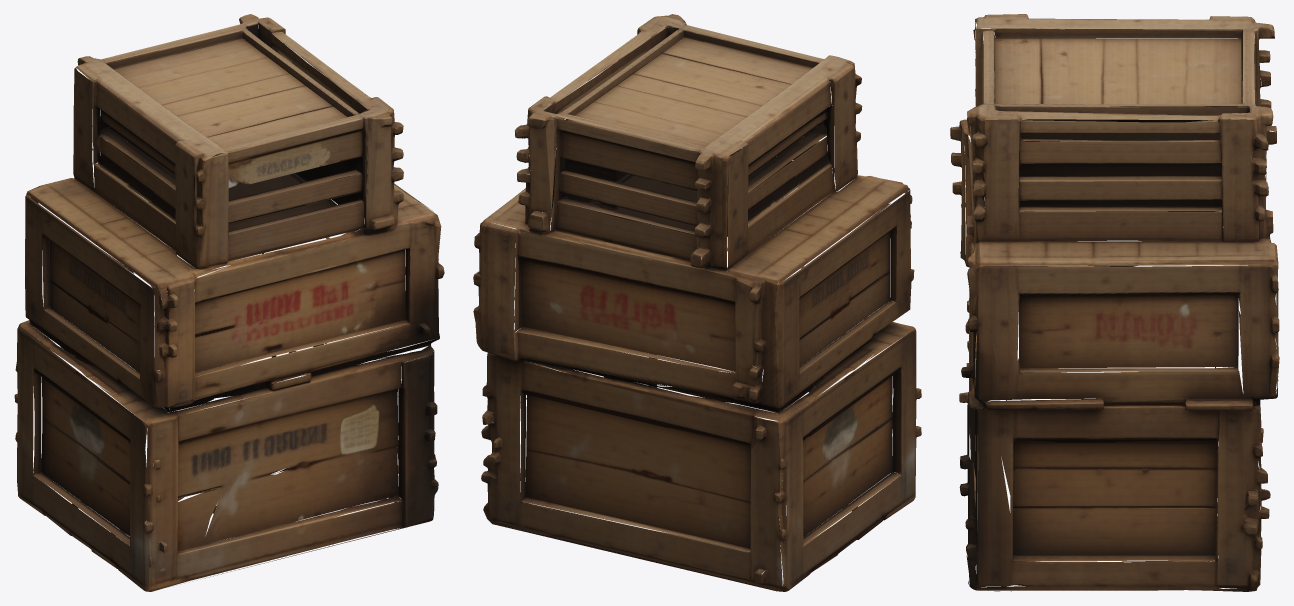
The model's file is crate_1.glb.
The picture shows the model from 3 angles, left to right: view 1: azimuth 30°, elevation 25°; view 2: azimuth 150°, elevation 25°; view 3: azimuth 270°, elevation 25°; orthographic projection. The views are drawn at different scales.
Visible parts, largest first — view 1: geometry_0.002; view 2: geometry_0.002; view 3: geometry_0.002.
Part boxes in pixels (x1=…): geometry_0.002: x1=14, y1=14, x2=444, y2=591; geometry_0.002: x1=473, y1=14, x2=921, y2=591; geometry_0.002: x1=950, y1=14, x2=1279, y2=591.
Bounding box in the file's own units: 0.7611 × 0.9983 × 0.6525.
1 material, 1 textured.
